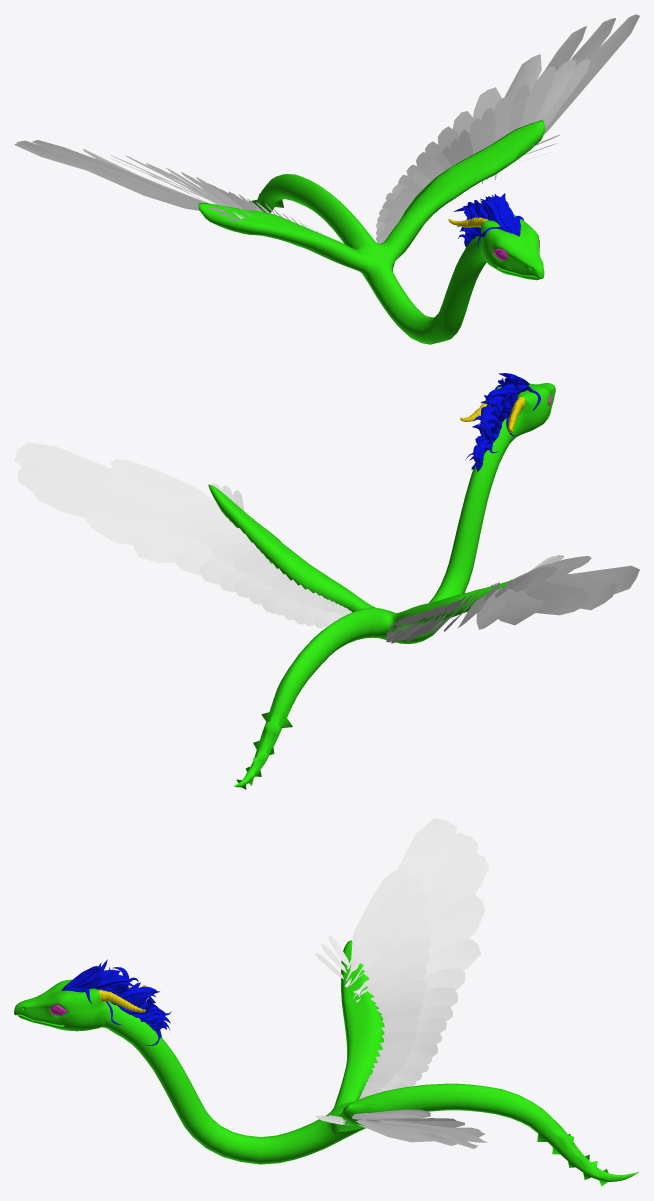
File: Occamy.fbx
3 renders of one model, top to bottom at view 1: azimuth 30°, elevation 25°; view 2: azimuth 150°, elevation 25°; view 3: azimuth 270°, elevation 25°, orthographic.
Visible parts, largest first — view 1: Occamy.002, Front Feathers.001, Occamy.001; view 2: Front Feathers.001, Occamy.002, Occamy.001; view 3: Front Feathers.001, Occamy.002, Occamy.001.
Boxes of the visible parts, x1,y1,x2,y2 form: Occamy.002: (198,120,545,344); Front Feathers.001: (14,14,639,243); Occamy.001: (453,193,523,248); Front Feathers.001: (14,442,639,643); Occamy.002: (208,383,555,789); Occamy.001: (465,373,540,471); Front Feathers.001: (315,818,489,1148); Occamy.002: (14,940,638,1186); Occamy.001: (61,959,171,1045).
Size of the model in its own units: 1344 by 473 by 1200.
